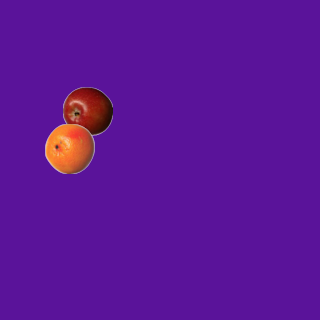Apple Braeburn: (62, 86, 112, 136)
Grapefruit Pink: (44, 123, 94, 173)
